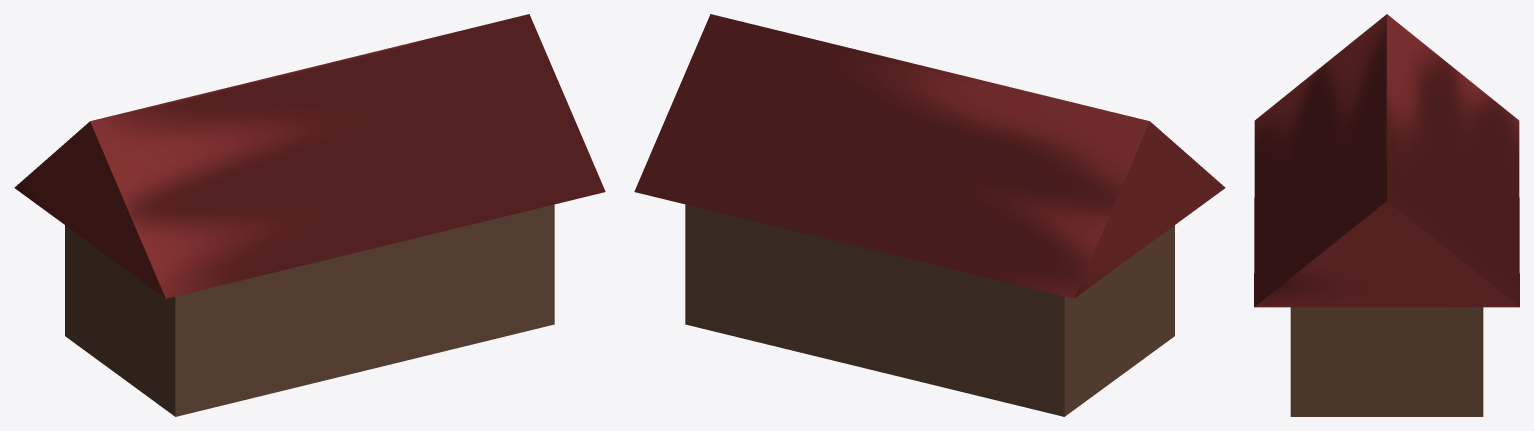
Rendered from house.fbx.
3 renders of one model, left to right at view 1: azimuth 30°, elevation 25°; view 2: azimuth 150°, elevation 25°; view 3: azimuth 270°, elevation 25°, orthographic. The views are drawn at different scales.
Parts seen in each view (by area): view 1: house; view 2: house; view 3: house.
Boxes of the visible parts, left/top/right/bottom form: house: left=14, top=14, right=605, bottom=416; house: left=634, top=14, right=1225, bottom=416; house: left=1254, top=14, right=1519, bottom=416.
Size of the model in its own units: 1113 by 636 by 669.
Materials: 2 (2 with a texture image).
